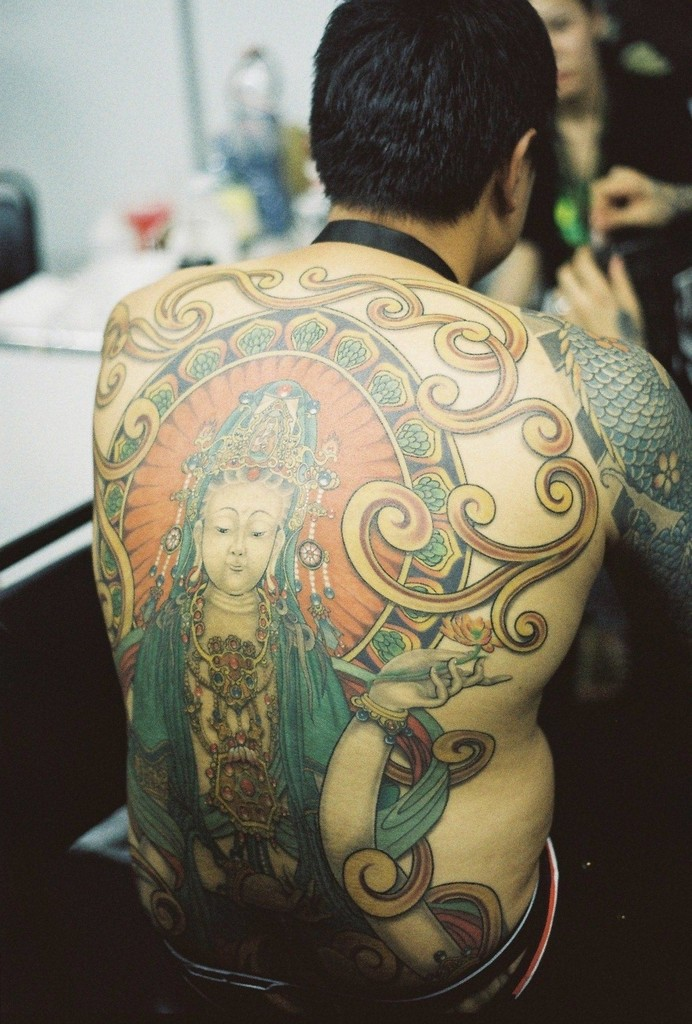face: (522, 0, 595, 112)
